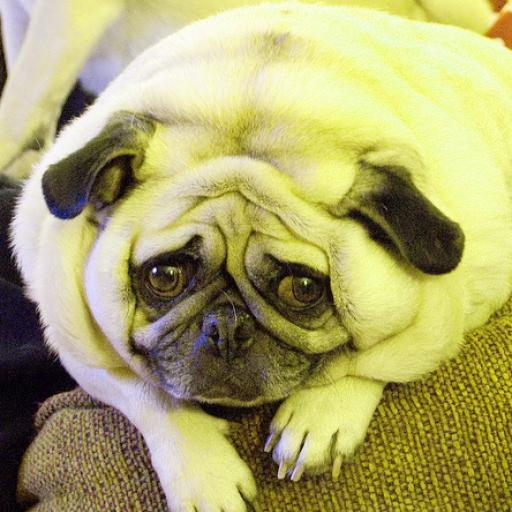dog_face: (37, 105, 498, 418)
